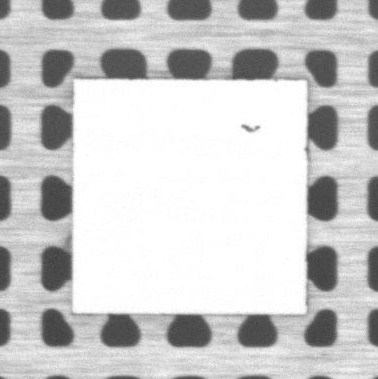DIE_INK: (242, 123, 263, 132)
